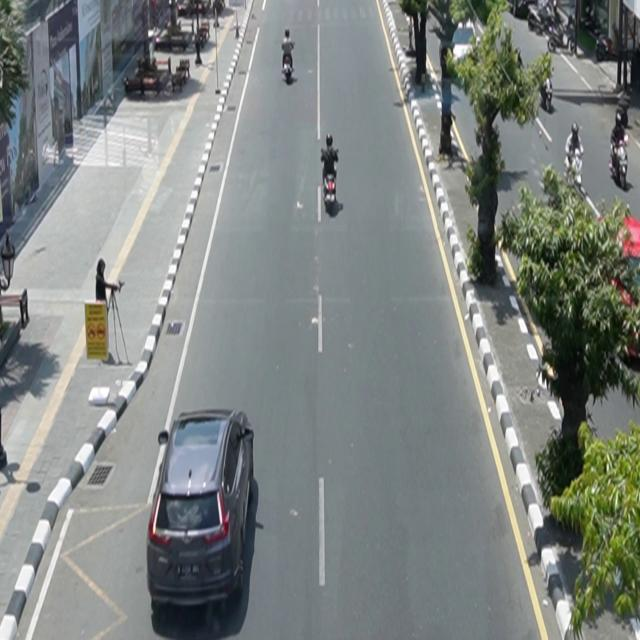car: (147, 408, 255, 614)
